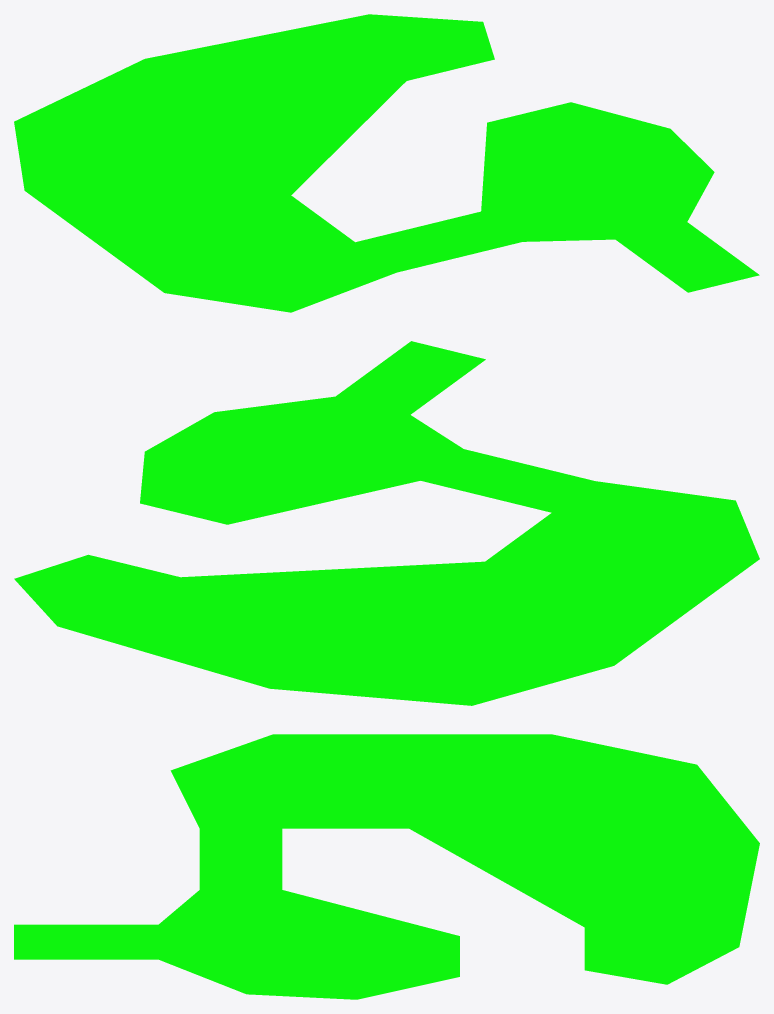
The model's file is s03b_nb2-floor.glb.
3 views of the same model, one above another, from view 1: azimuth 30°, elevation 25°; view 2: azimuth 150°, elevation 25°; view 3: azimuth 270°, elevation 25° (orthographic). The views are drawn at different scales.
Visible parts, largest first — view 1: collision_floor-colonly; view 2: collision_floor-colonly; view 3: collision_floor-colonly.
Part boxes in pixels (<box>): collision_floor-colonly: <box>14,14,759,312</box>; collision_floor-colonly: <box>14,341,759,705</box>; collision_floor-colonly: <box>14,734,759,999</box>.
Bounding box in the file's own units: 45.7 × 0 × 54.24.
